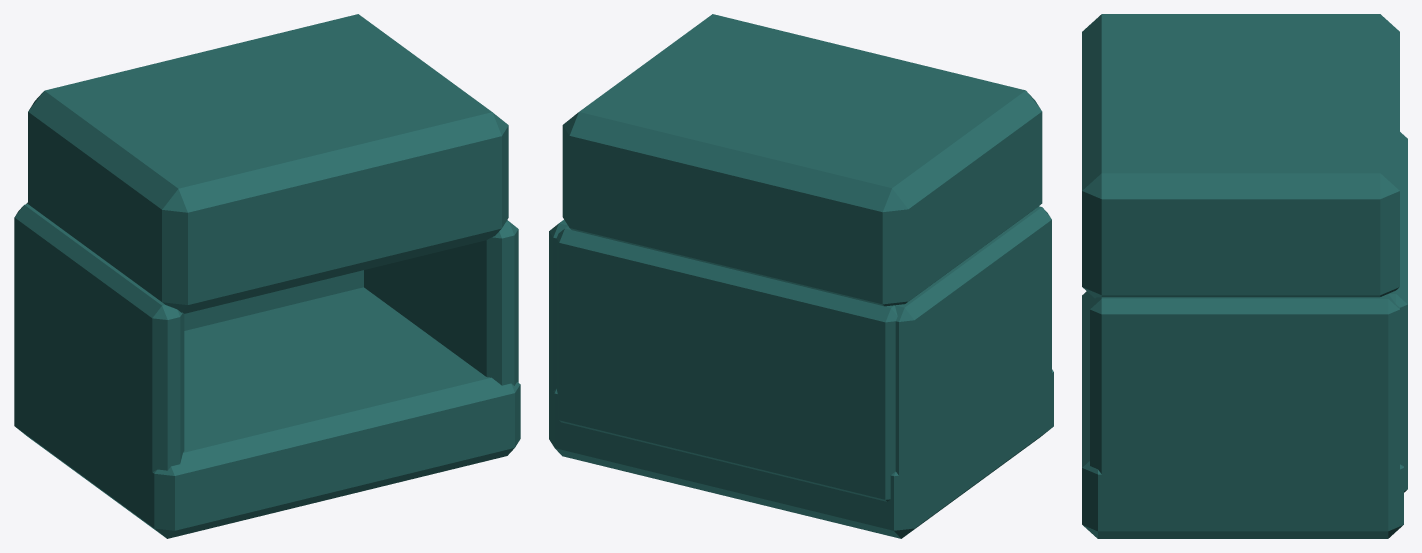
File: headwear-hijab.glb
3 views of the same model, side by side, from view 1: azimuth 30°, elevation 25°; view 2: azimuth 150°, elevation 25°; view 3: azimuth 270°, elevation 25° (orthographic). The views are drawn at different scales.
Parts seen in each view (by area): view 1: headwear-hijab-0; view 2: headwear-hijab-0; view 3: headwear-hijab-0.
Part boxes in pixels (x1=…): headwear-hijab-0: x1=14, y1=14, x2=520, y2=538; headwear-hijab-0: x1=549, y1=14, x2=1053, y2=538; headwear-hijab-0: x1=1082, y1=14, x2=1407, y2=538.
Bounding box in the file's own units: 1.12 × 1.01 × 0.83.
